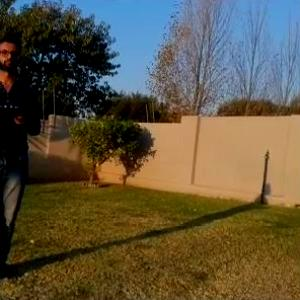follow: (0, 31, 49, 289)
